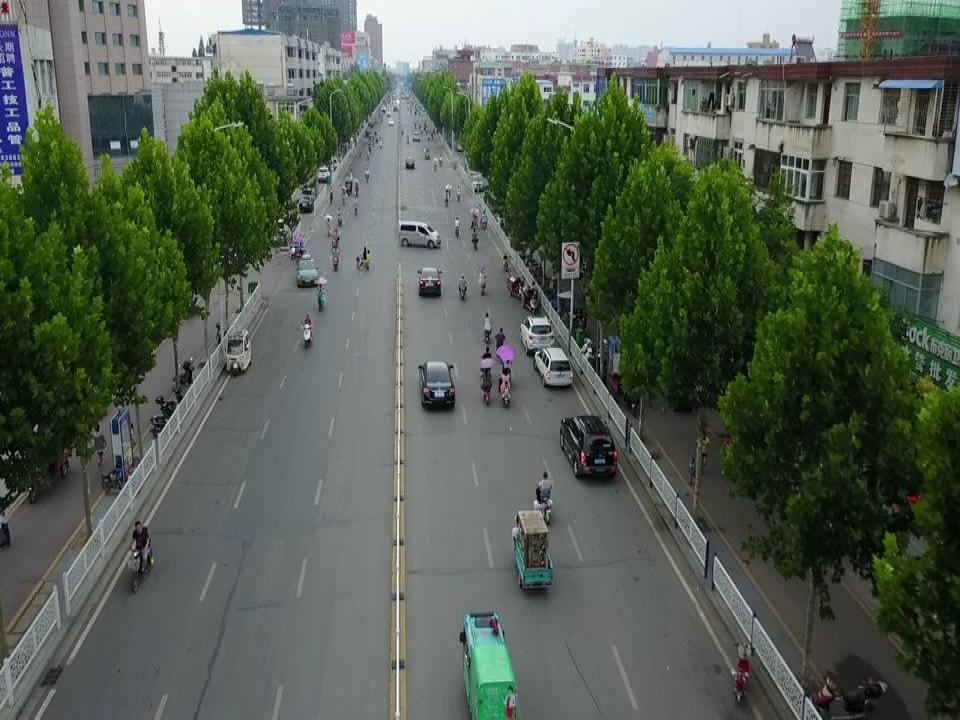bus: (459, 612, 517, 720)
car: (559, 413, 619, 480), (417, 360, 456, 409), (532, 347, 574, 389), (518, 315, 555, 356), (294, 253, 320, 288), (417, 265, 442, 296), (266, 211, 291, 233), (297, 194, 314, 214), (317, 165, 331, 184), (470, 172, 484, 191), (299, 188, 315, 203), (404, 156, 416, 169), (455, 140, 466, 151), (411, 131, 421, 141), (387, 117, 395, 127)
van: (397, 219, 441, 249)
